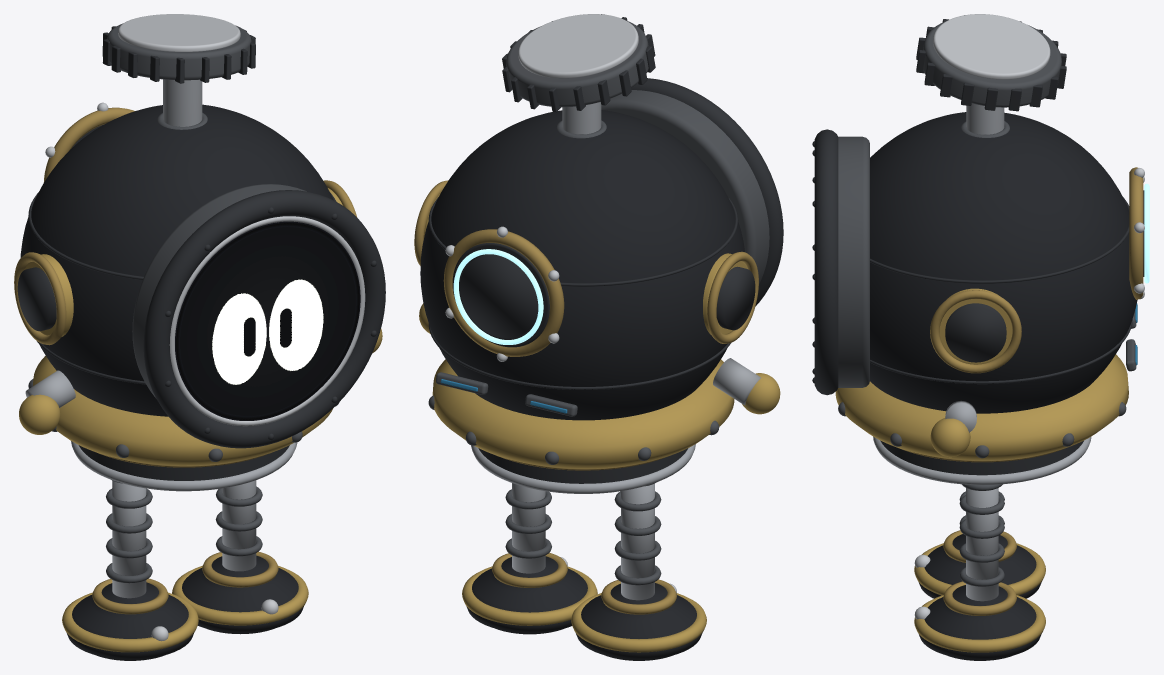
The model's file is seer_robot.glb.
3 renders of one model, left to right at view 1: azimuth 30°, elevation 25°; view 2: azimuth 150°, elevation 25°; view 3: azimuth 270°, elevation 25°, orthographic. The views are drawn at different scales.
Parts seen in each view (by area): view 1: seer_body, seer_face_screen, seer_face_rim, seer_belt, seer_foot_l, seer_foot_r, seer_valve_cap_top, seer_face_collar, seer_face_lip, seer_valve_cap, seer_leg_l, seer_underskirt_ring (+14 smaller); view 2: seer_body, seer_belt, seer_face_collar, seer_valve_cap_top, seer_back_hatch_inner, seer_foot_l, seer_foot_r, seer_face_rim, seer_back_rim, seer_valve_cap, seer_leg_l, seer_underskirt_ring (+19 smaller); view 3: seer_body, seer_belt, seer_face_collar, seer_face_rim, seer_valve_cap_top, seer_foot_r, seer_valve_cap, seer_port_r_glass, seer_leg_r, seer_foot_l, seer_underskirt_ring, seer_port_r_ring (+13 smaller).
Boxes of the visible parts, box(x1,y1,x2,y2) form: seer_body: box(20, 104, 333, 416); seer_face_screen: box(175, 221, 360, 420); seer_face_rim: box(143, 190, 385, 448); seer_belt: box(33, 355, 332, 465); seer_foot_l: box(66, 582, 194, 659); seer_foot_r: box(182, 555, 303, 632); seer_valve_cap_top: box(118, 14, 240, 51); seer_face_collar: box(132, 184, 306, 397); seer_face_lip: box(169, 216, 365, 426); seer_valve_cap: box(107, 23, 251, 80); seer_leg_l: box(112, 481, 146, 598); seer_underskirt_ring: box(71, 441, 297, 491); seer_body: box(420, 110, 744, 420); seer_belt: box(432, 359, 734, 468); seer_face_collar: box(601, 90, 769, 283); seer_valve_cap_top: box(518, 14, 638, 78); seer_back_hatch_inner: box(460, 254, 538, 338); seer_foot_l: box(575, 583, 702, 659); seer_foot_r: box(466, 556, 587, 632); seer_face_rim: box(631, 78, 783, 306); seer_back_rim: box(443, 229, 564, 356); seer_valve_cap: box(506, 20, 648, 107); seer_leg_l: box(621, 483, 654, 600); seer_underskirt_ring: box(471, 444, 695, 493); seer_body: box(870, 112, 1137, 413); seer_belt: box(835, 354, 1128, 460); seer_face_collar: box(838, 136, 869, 387); seer_face_rim: box(814, 129, 838, 395); seer_valve_cap_top: box(933, 14, 1050, 79); seer_foot_r: box(918, 585, 1041, 659); seer_valve_cap: box(923, 20, 1061, 107); seer_port_r_glass: box(945, 303, 1006, 362); seer_leg_r: box(966, 488, 998, 601); seer_foot_l: box(918, 534, 1041, 598); seer_underskirt_ring: box(873, 436, 1091, 484); seer_port_r_ring: box(930, 290, 1021, 373).
Size of the model in its own units: 0.756 by 1.21 by 0.6388.
10 materials, 1 textured.
